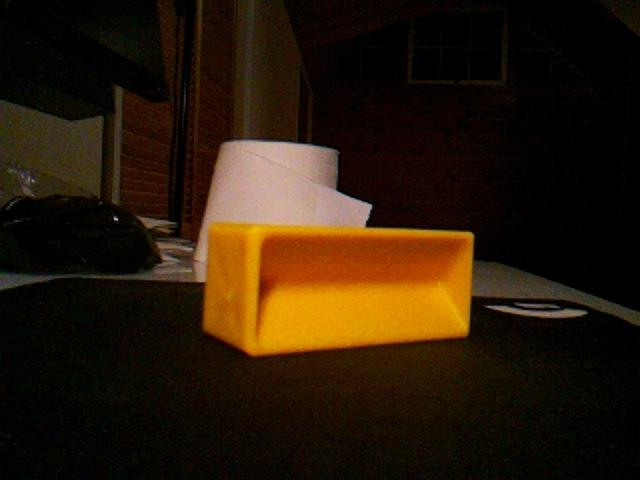yellow: (201, 221, 475, 358)
